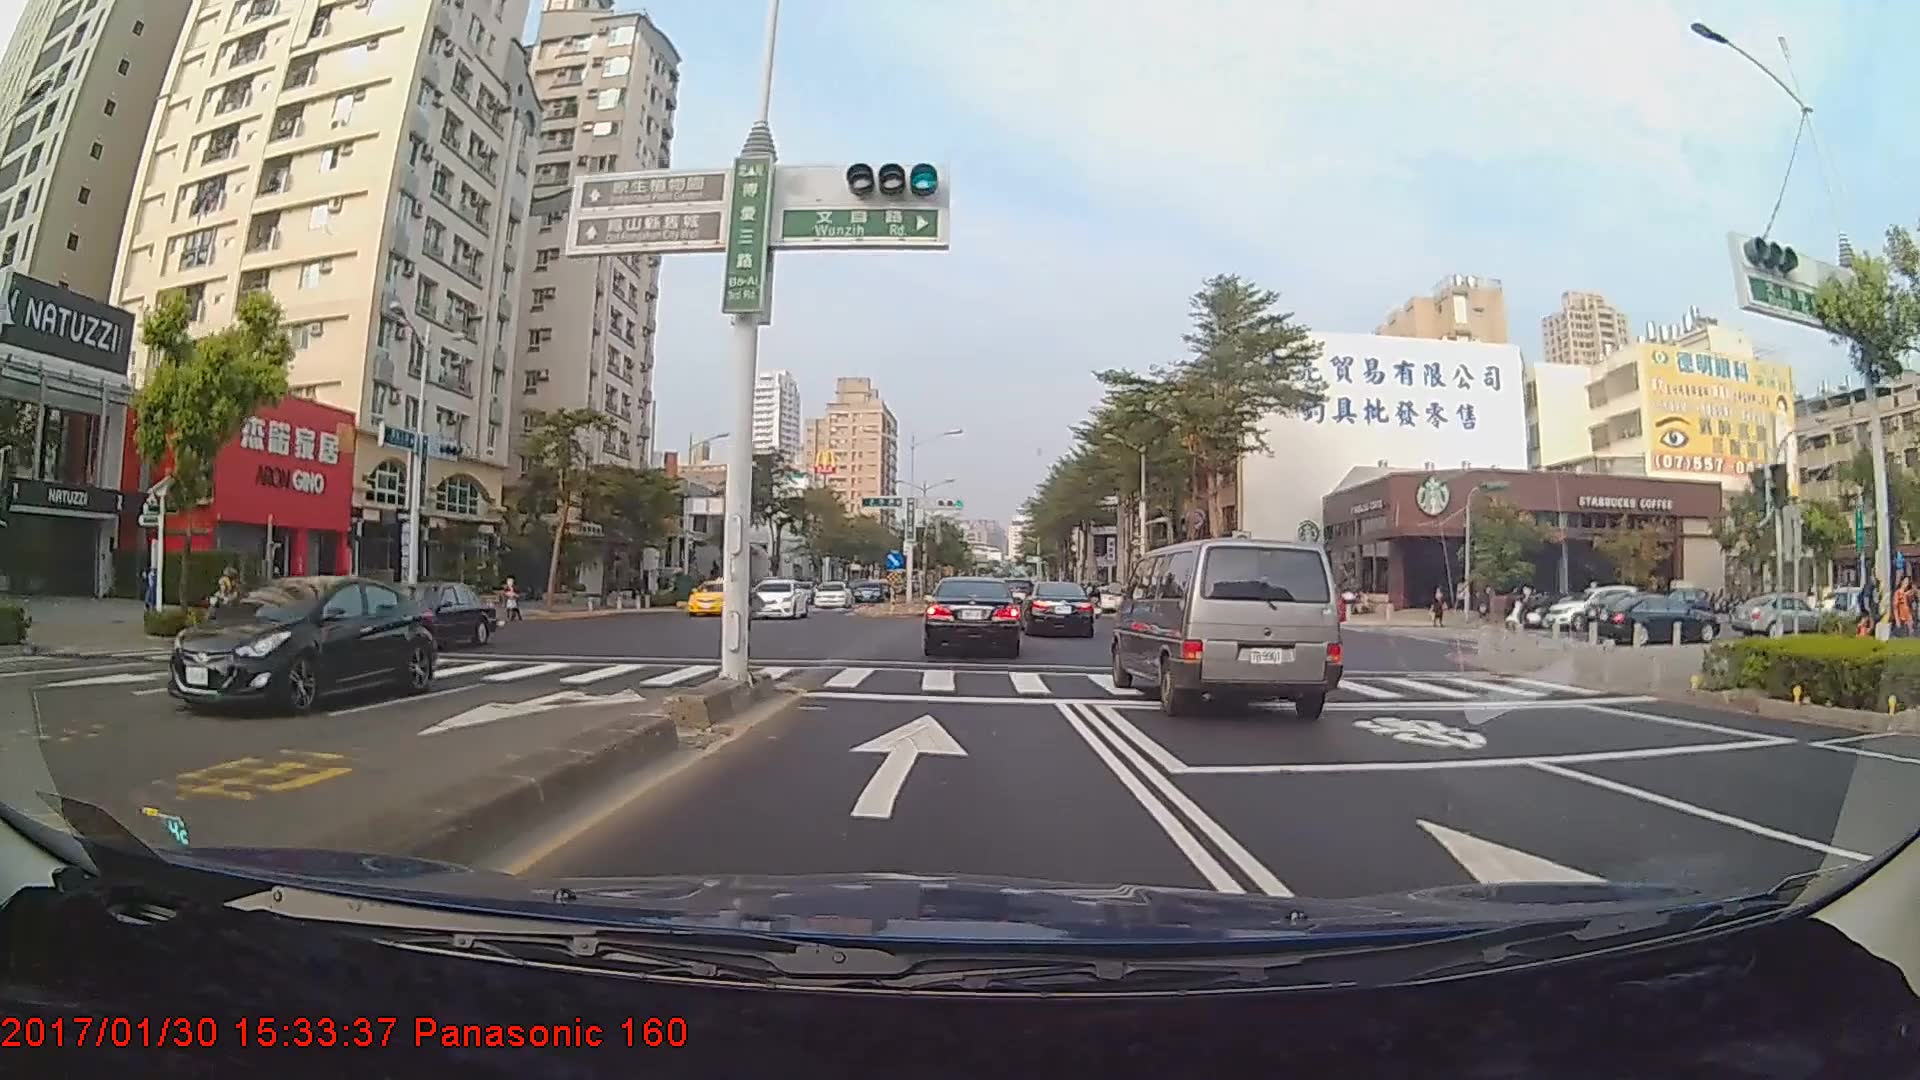pedestrian: (1856, 566, 1888, 655), (1893, 577, 1913, 654)
rider: (193, 576, 255, 650), (1506, 584, 1553, 633)
vehicle: (1110, 536, 1344, 720), (162, 572, 435, 714), (352, 579, 497, 651), (1605, 583, 1734, 646), (923, 576, 1021, 657), (1730, 589, 1824, 641), (1020, 580, 1095, 638), (748, 576, 808, 620), (685, 578, 747, 618), (809, 582, 850, 611)
